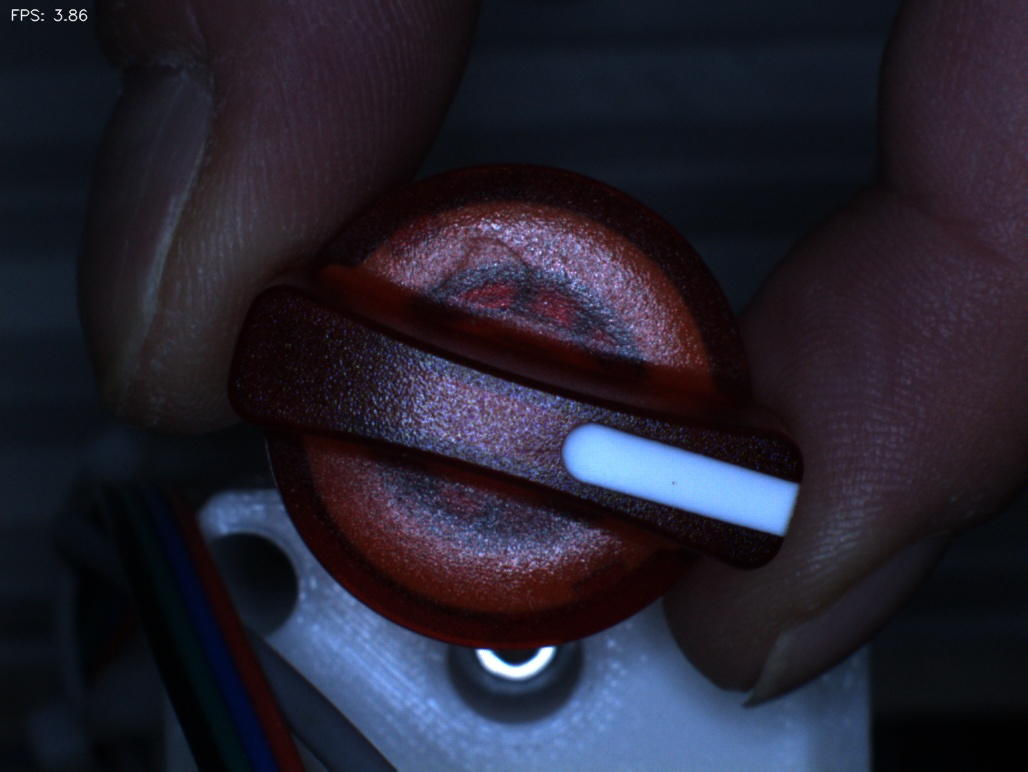PointNoir: (629, 454, 726, 528)
